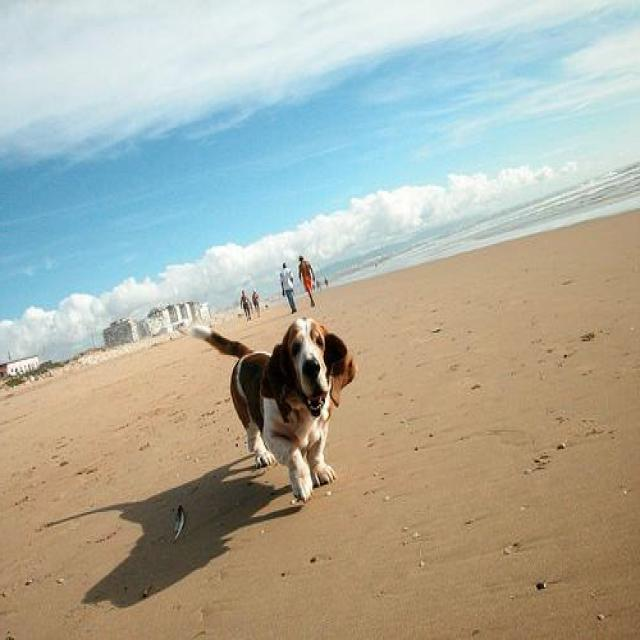basset: (188, 318, 357, 500)
